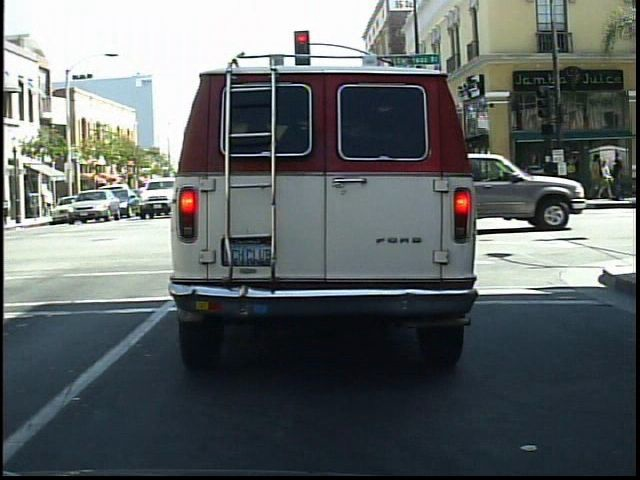person: (605, 141, 629, 209), (539, 151, 562, 208), (513, 156, 535, 207)
